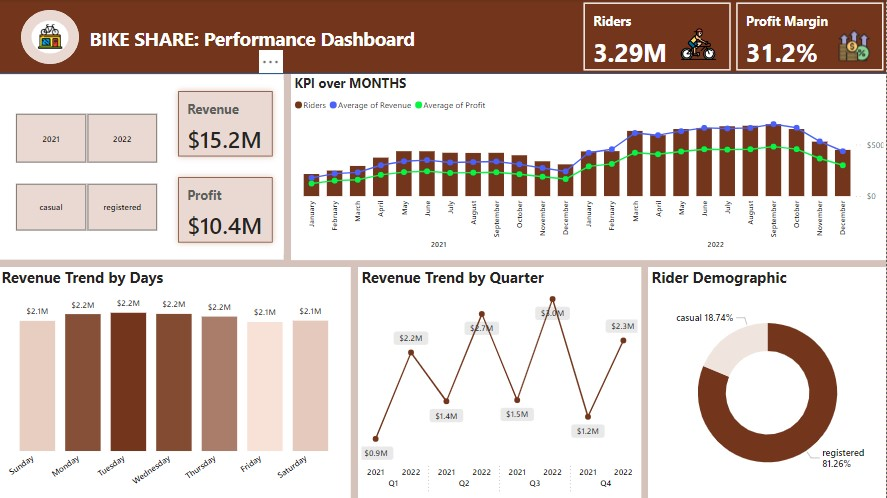

What the dashboard file says about the page in this screenshot:
{"tool":"powerbi","page":{"name":"Page 1","canvas":[1280,720],"ordinal":0},"visuals":[{"type":"shape","box":[0,0,1280.2,108],"z":0},{"type":"textbox","box":[126.7,33.1,686.9,60.5],"z":1000},{"type":"shape","box":[33.1,15.8,83.5,77.8],"z":2000},{"type":"image","box":[47.5,31.7,54.7,44.6],"z":3000},{"type":"shape","box":[0,108,411.8,267.8],"z":4000},{"type":"slicer","fields":{"Values":["Query1.Rider_Type"]},"box":[0,259.2,253.4,80.6],"z":6000},{"type":"slicer","fields":{"Values":["Date Table.Year"]},"box":[0,158.4,253.4,83.5],"z":7000},{"type":"cardVisual","title":"KPI over TIME","fields":{"Data":["Sum(Query1.Revenue)","Sum(Query1.Profit)"]},"box":[243.4,116.6,168.5,250.6],"z":8000},{"type":"columnChart","title":"Revenue Trend  by Days","fields":{"Category":["Date Table.Day of Week"],"Y":["Sum(Query1.Revenue)"]},"box":[0,386,508,334],"z":9000},{"type":"cardVisual","fields":{"Data":["Sum(Query1.Riders)","Query1.Profit_Margin"]},"box":[838.1,0,442.1,108],"z":9500},{"type":"lineChart","title":"Revenue Trend by Quarter","fields":{"Category":["Date Table.Quarter","Date Table.Year"],"Y":["Sum(Query1.Revenue)"]},"box":[518.2,385.9,407.5,334.1],"z":10000},{"type":"donutChart","title":"Rider Demographic","fields":{"Y":["Sum(Query1.Revenue)"],"Category":["Query1.Rider_Type"]},"box":[935.8,385.9,344.2,334.1],"z":11000},{"type":"lineClusteredColumnComboChart","title":"KPI over MONTHS","fields":{"Y":["Sum(Query1.Riders)"],"Y2":["Avg(Query1.Revenue)","Avg(Query1.Profit)"],"Category":["Date Table.Date.Variation.Date Hierarchy.Year","Date Table.Date.Variation.Date Hierarchy.Month"]},"box":[421.8,108,858.2,267.8],"z":12000},{"type":"image","box":[1201,38.9,64.8,56.2],"z":14000},{"type":"image","box":[969.1,34.6,79.2,61],"z":14500}]}

Visuals, with their boxes in screenshot pixels (x1, y1, x2, y2), scaled from the page's 1280x720 canvas onto the 887x498 screenshot:
shape: <box>0,0,886,75</box>
textbox: <box>88,23,564,65</box>
shape: <box>23,11,81,65</box>
image: <box>33,22,71,53</box>
shape: <box>0,75,285,260</box>
slicer - Query1.Rider_Type: <box>0,179,176,235</box>
slicer - Date Table.Year: <box>0,110,176,167</box>
"KPI over TIME" cardVisual: <box>169,81,285,254</box>
"Revenue Trend  by Days" columnChart: <box>0,267,352,497</box>
cardVisual - Sum(Query1.Riders) x Query1.Profit_Margin: <box>581,0,886,75</box>
"Revenue Trend by Quarter" lineChart: <box>359,267,641,497</box>
"Rider Demographic" donutChart: <box>648,267,886,497</box>
"KPI over MONTHS" lineClusteredColumnComboChart: <box>292,75,886,260</box>
image: <box>832,27,877,66</box>
image: <box>672,24,726,66</box>
